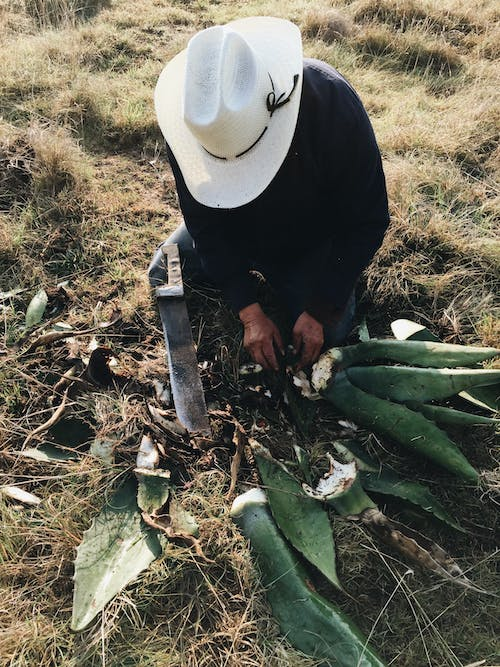knife: (150, 238, 218, 444)
